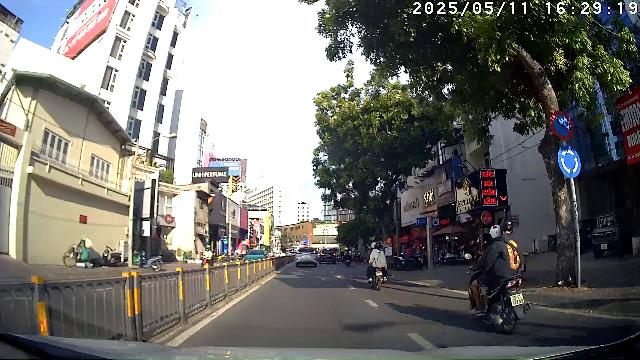131a-cam-do-xe: (550, 110, 574, 140)
303-noi-giao-nhau-chay-theo-vong-xuyen: (557, 145, 581, 179)
